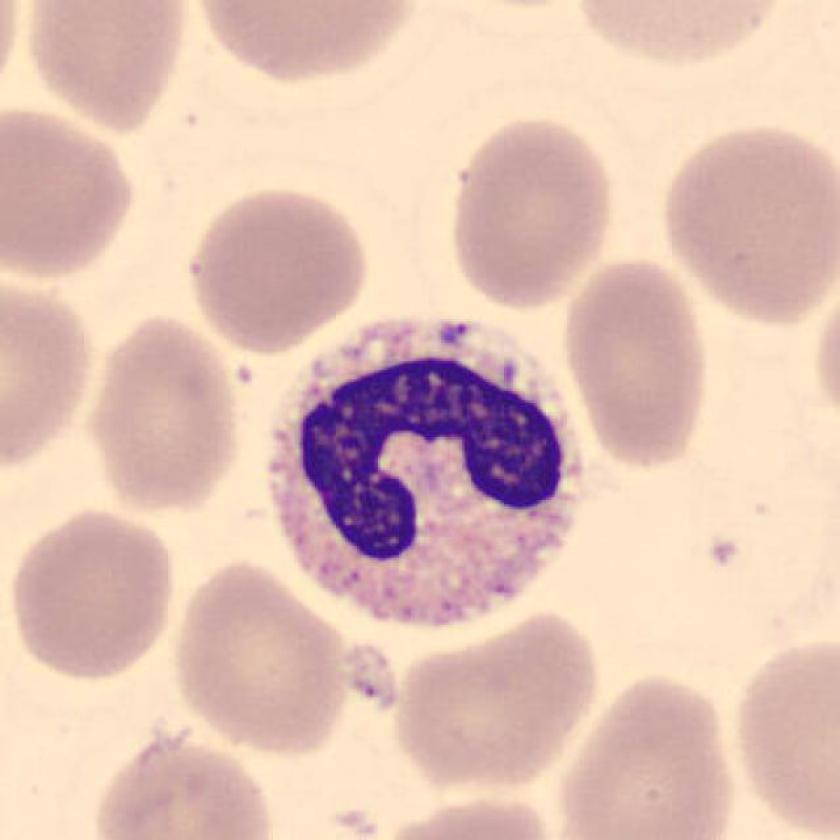neutrophil: (266, 321, 585, 626)
